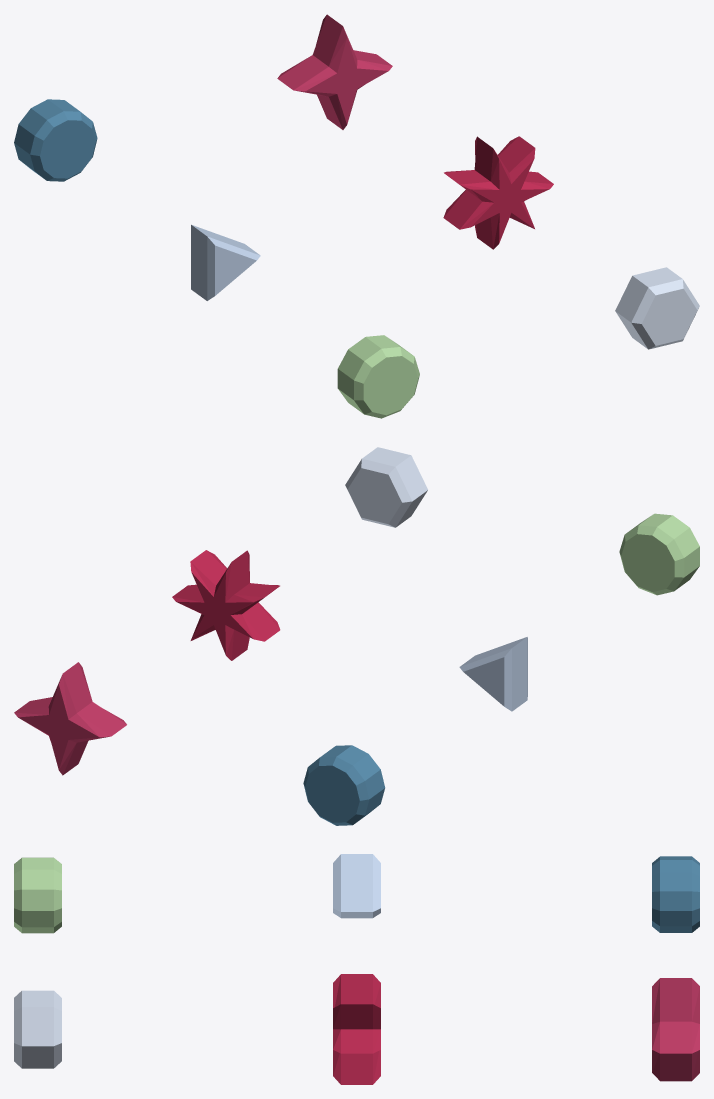
The model's file is std_mats_3_LinearExtrusionTest_2023-06-04-21-23-01.gltf.
3 renders of one model, top to bottom at view 1: azimuth 30°, elevation 25°; view 2: azimuth 150°, elevation 25°; view 3: azimuth 270°, elevation 25°, orthographic. The views are drawn at different scales.
Size of the model in its own units: 260 by 71.31 by 430.
